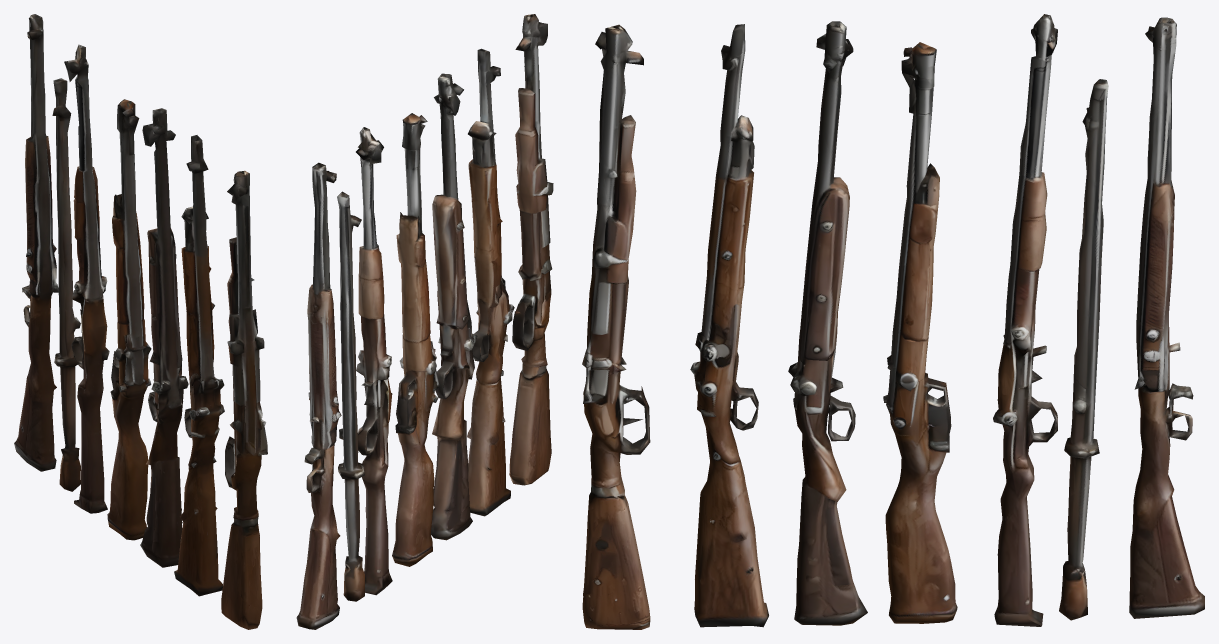
Rendered from ul_gun_rack.glb.
The picture shows the model from 3 angles, left to right: view 1: azimuth 30°, elevation 25°; view 2: azimuth 150°, elevation 25°; view 3: azimuth 270°, elevation 25°; orthographic projection. The views are drawn at different scales.
Visible parts, largest first — view 1: tripo_node_4346df3e-1034-4c2e-a60a-e611c19d1c3b; view 2: tripo_node_4346df3e-1034-4c2e-a60a-e611c19d1c3b; view 3: tripo_node_4346df3e-1034-4c2e-a60a-e611c19d1c3b.
Part boxes in pixels (box(x1,y1,x2,y2)): tripo_node_4346df3e-1034-4c2e-a60a-e611c19d1c3b: box(14, 14, 267, 629); tripo_node_4346df3e-1034-4c2e-a60a-e611c19d1c3b: box(296, 14, 553, 629); tripo_node_4346df3e-1034-4c2e-a60a-e611c19d1c3b: box(582, 14, 1204, 629).
Bounding box in the file's own units: 0.0767 × 1 × 0.9261.
Materials: 1 (1 with a texture image).
